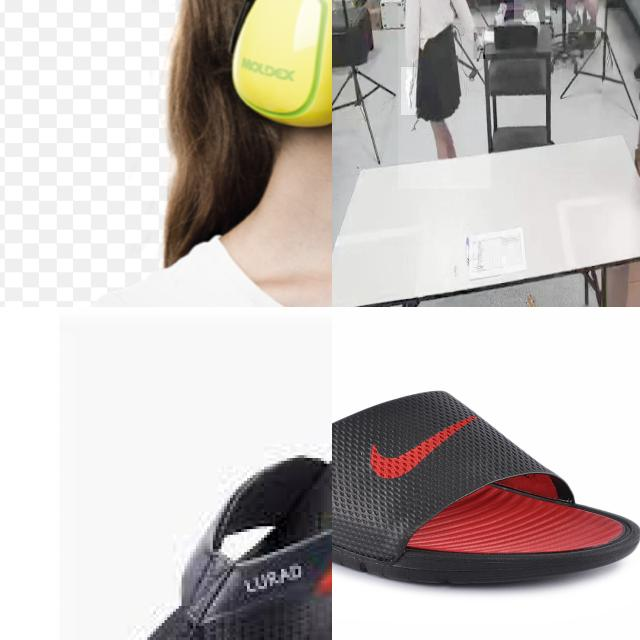Ear-protection: (197, 0, 332, 209)
Sandals: (78, 317, 332, 640), (332, 388, 640, 589)
hand_glove: (401, 67, 417, 116), (474, 27, 486, 60)
person: (398, 0, 491, 189), (566, 0, 607, 33)
